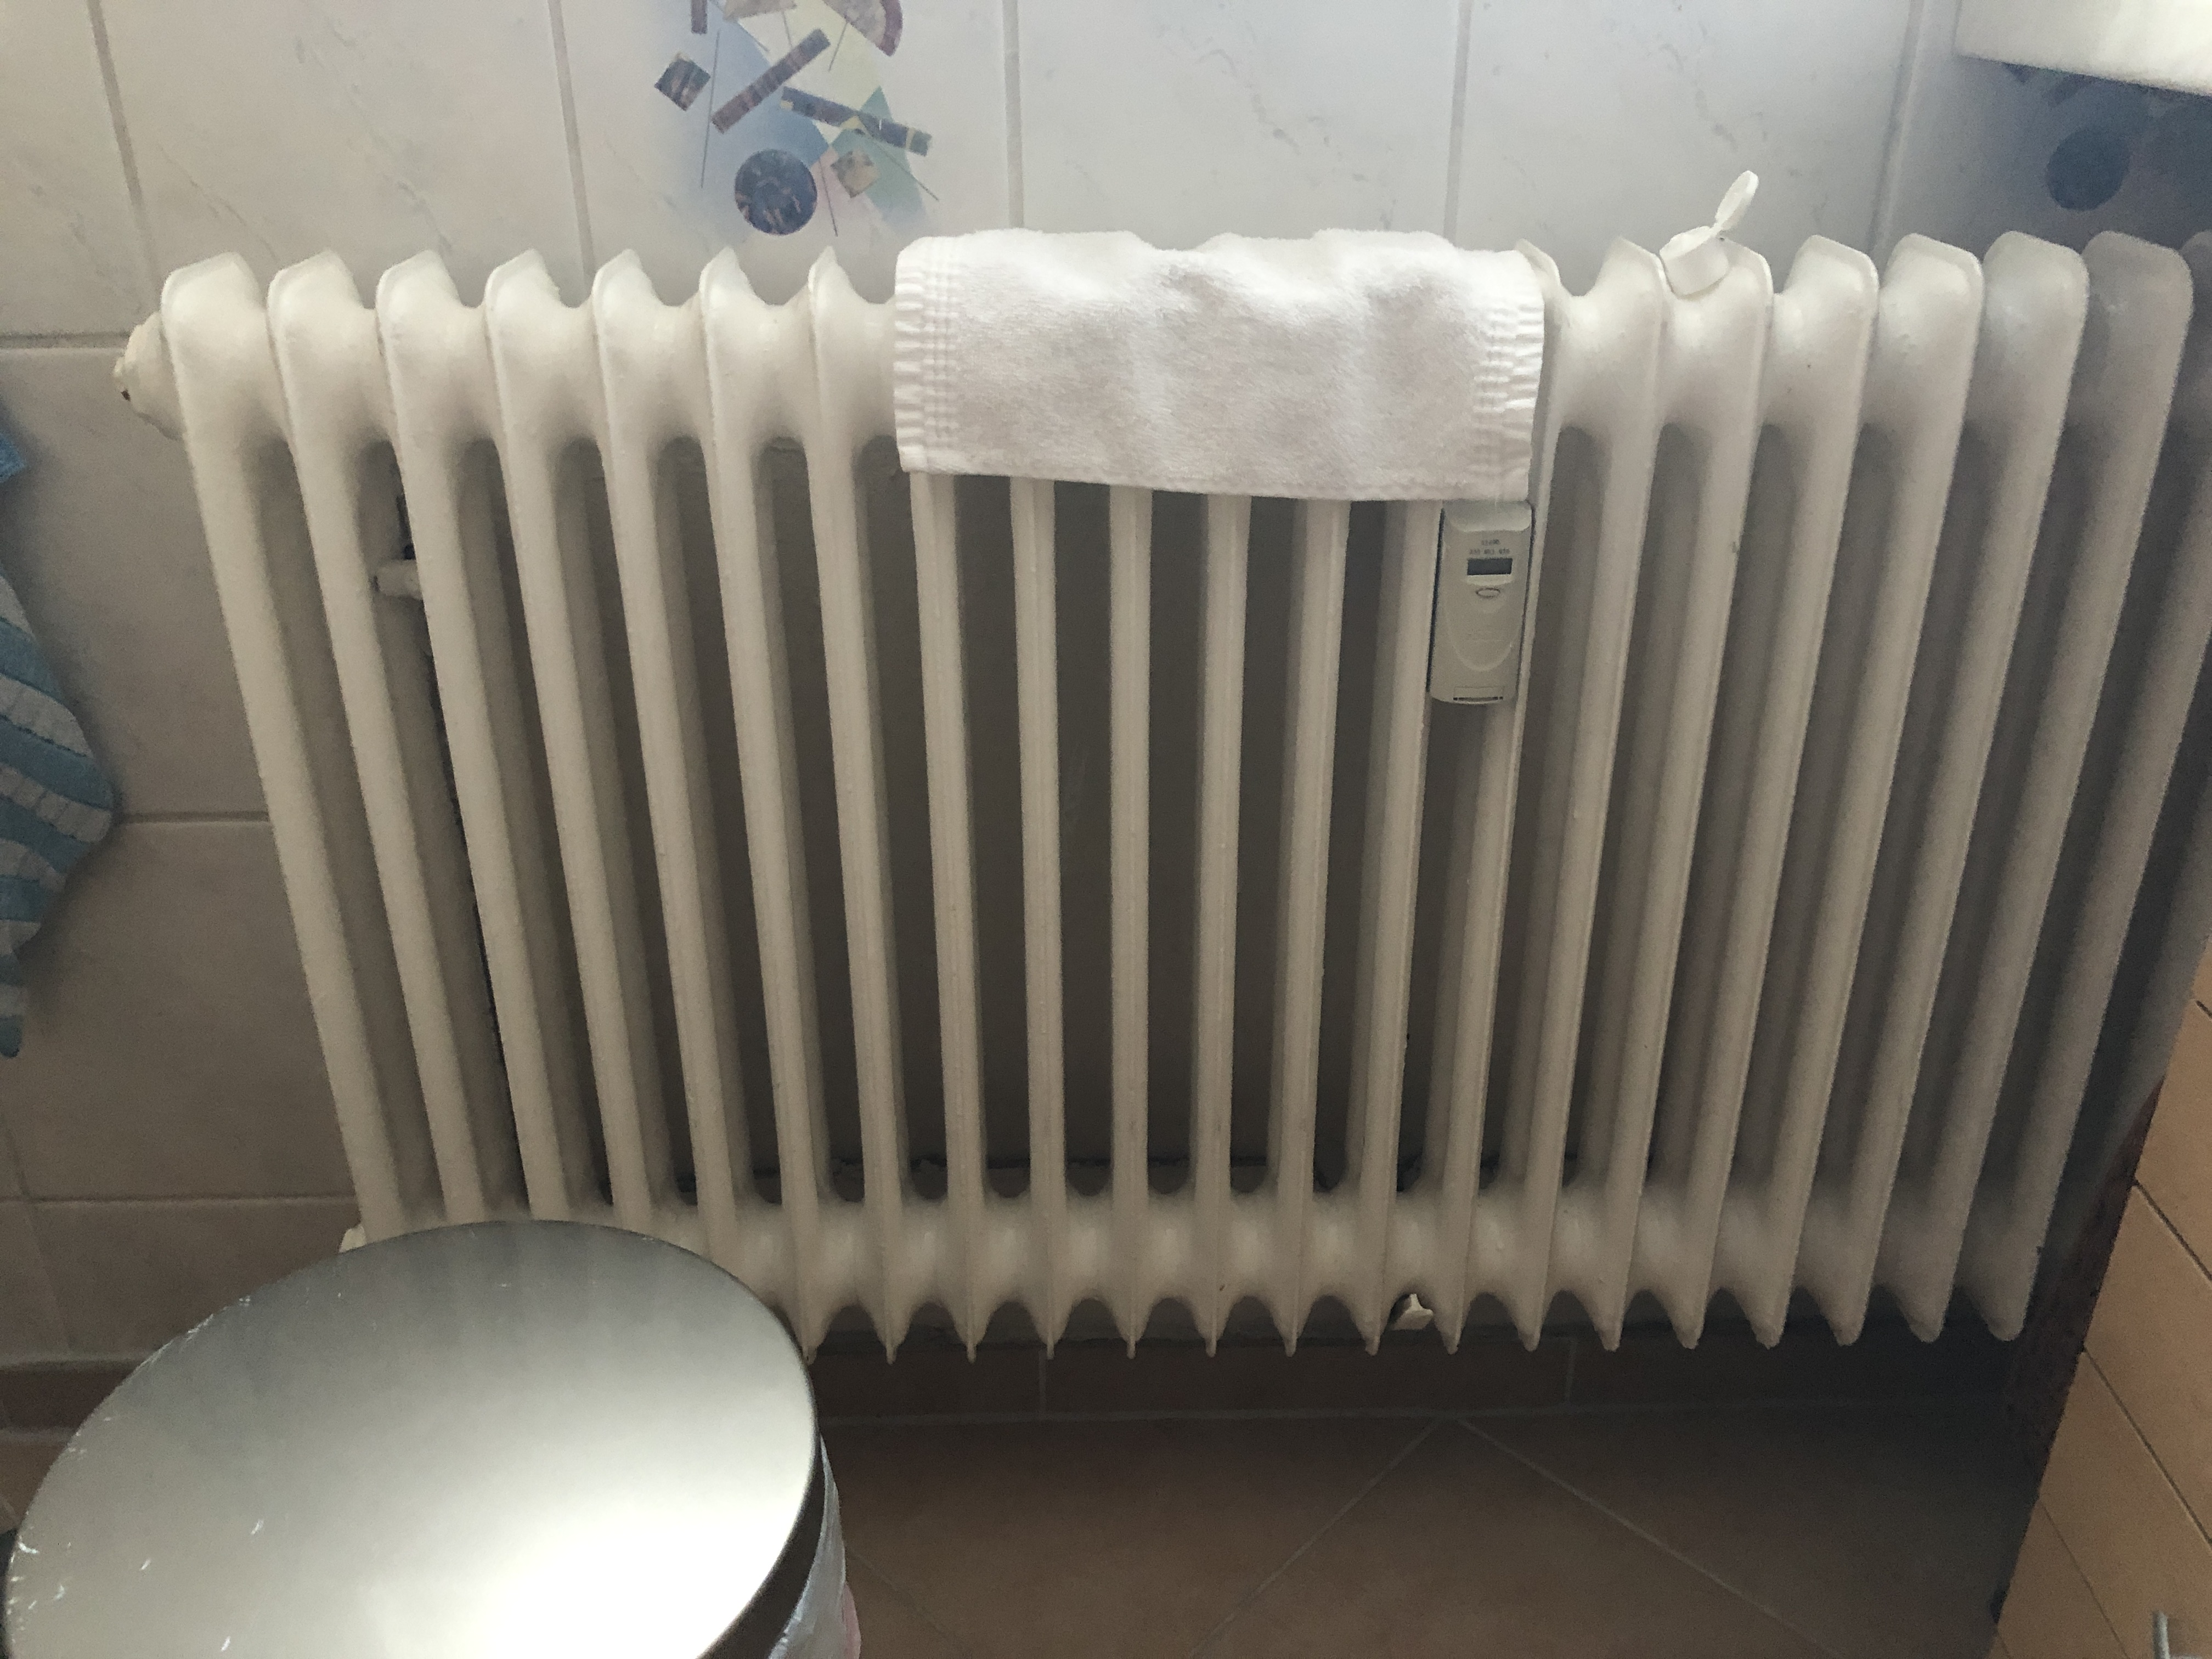Radiator: (111, 218, 2210, 1385)
